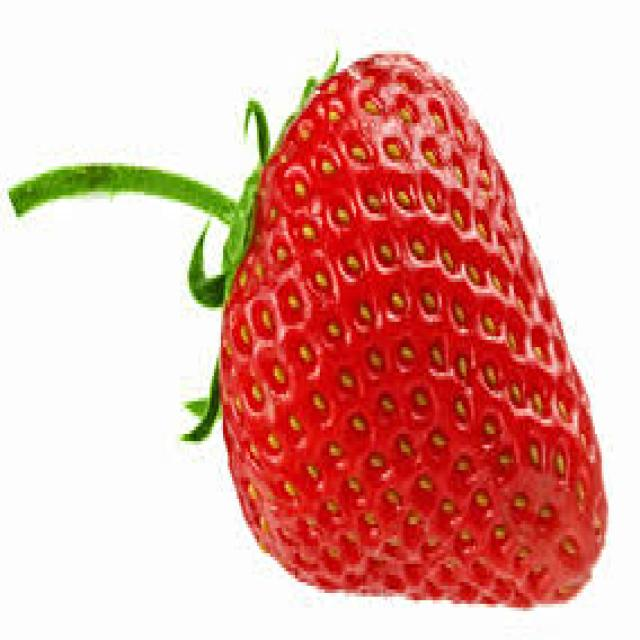strawberry: (153, 41, 609, 620)
